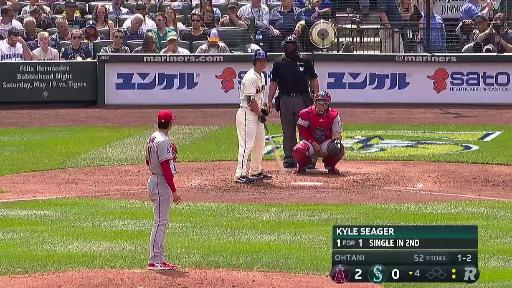pitcher: (145, 109, 187, 269)
